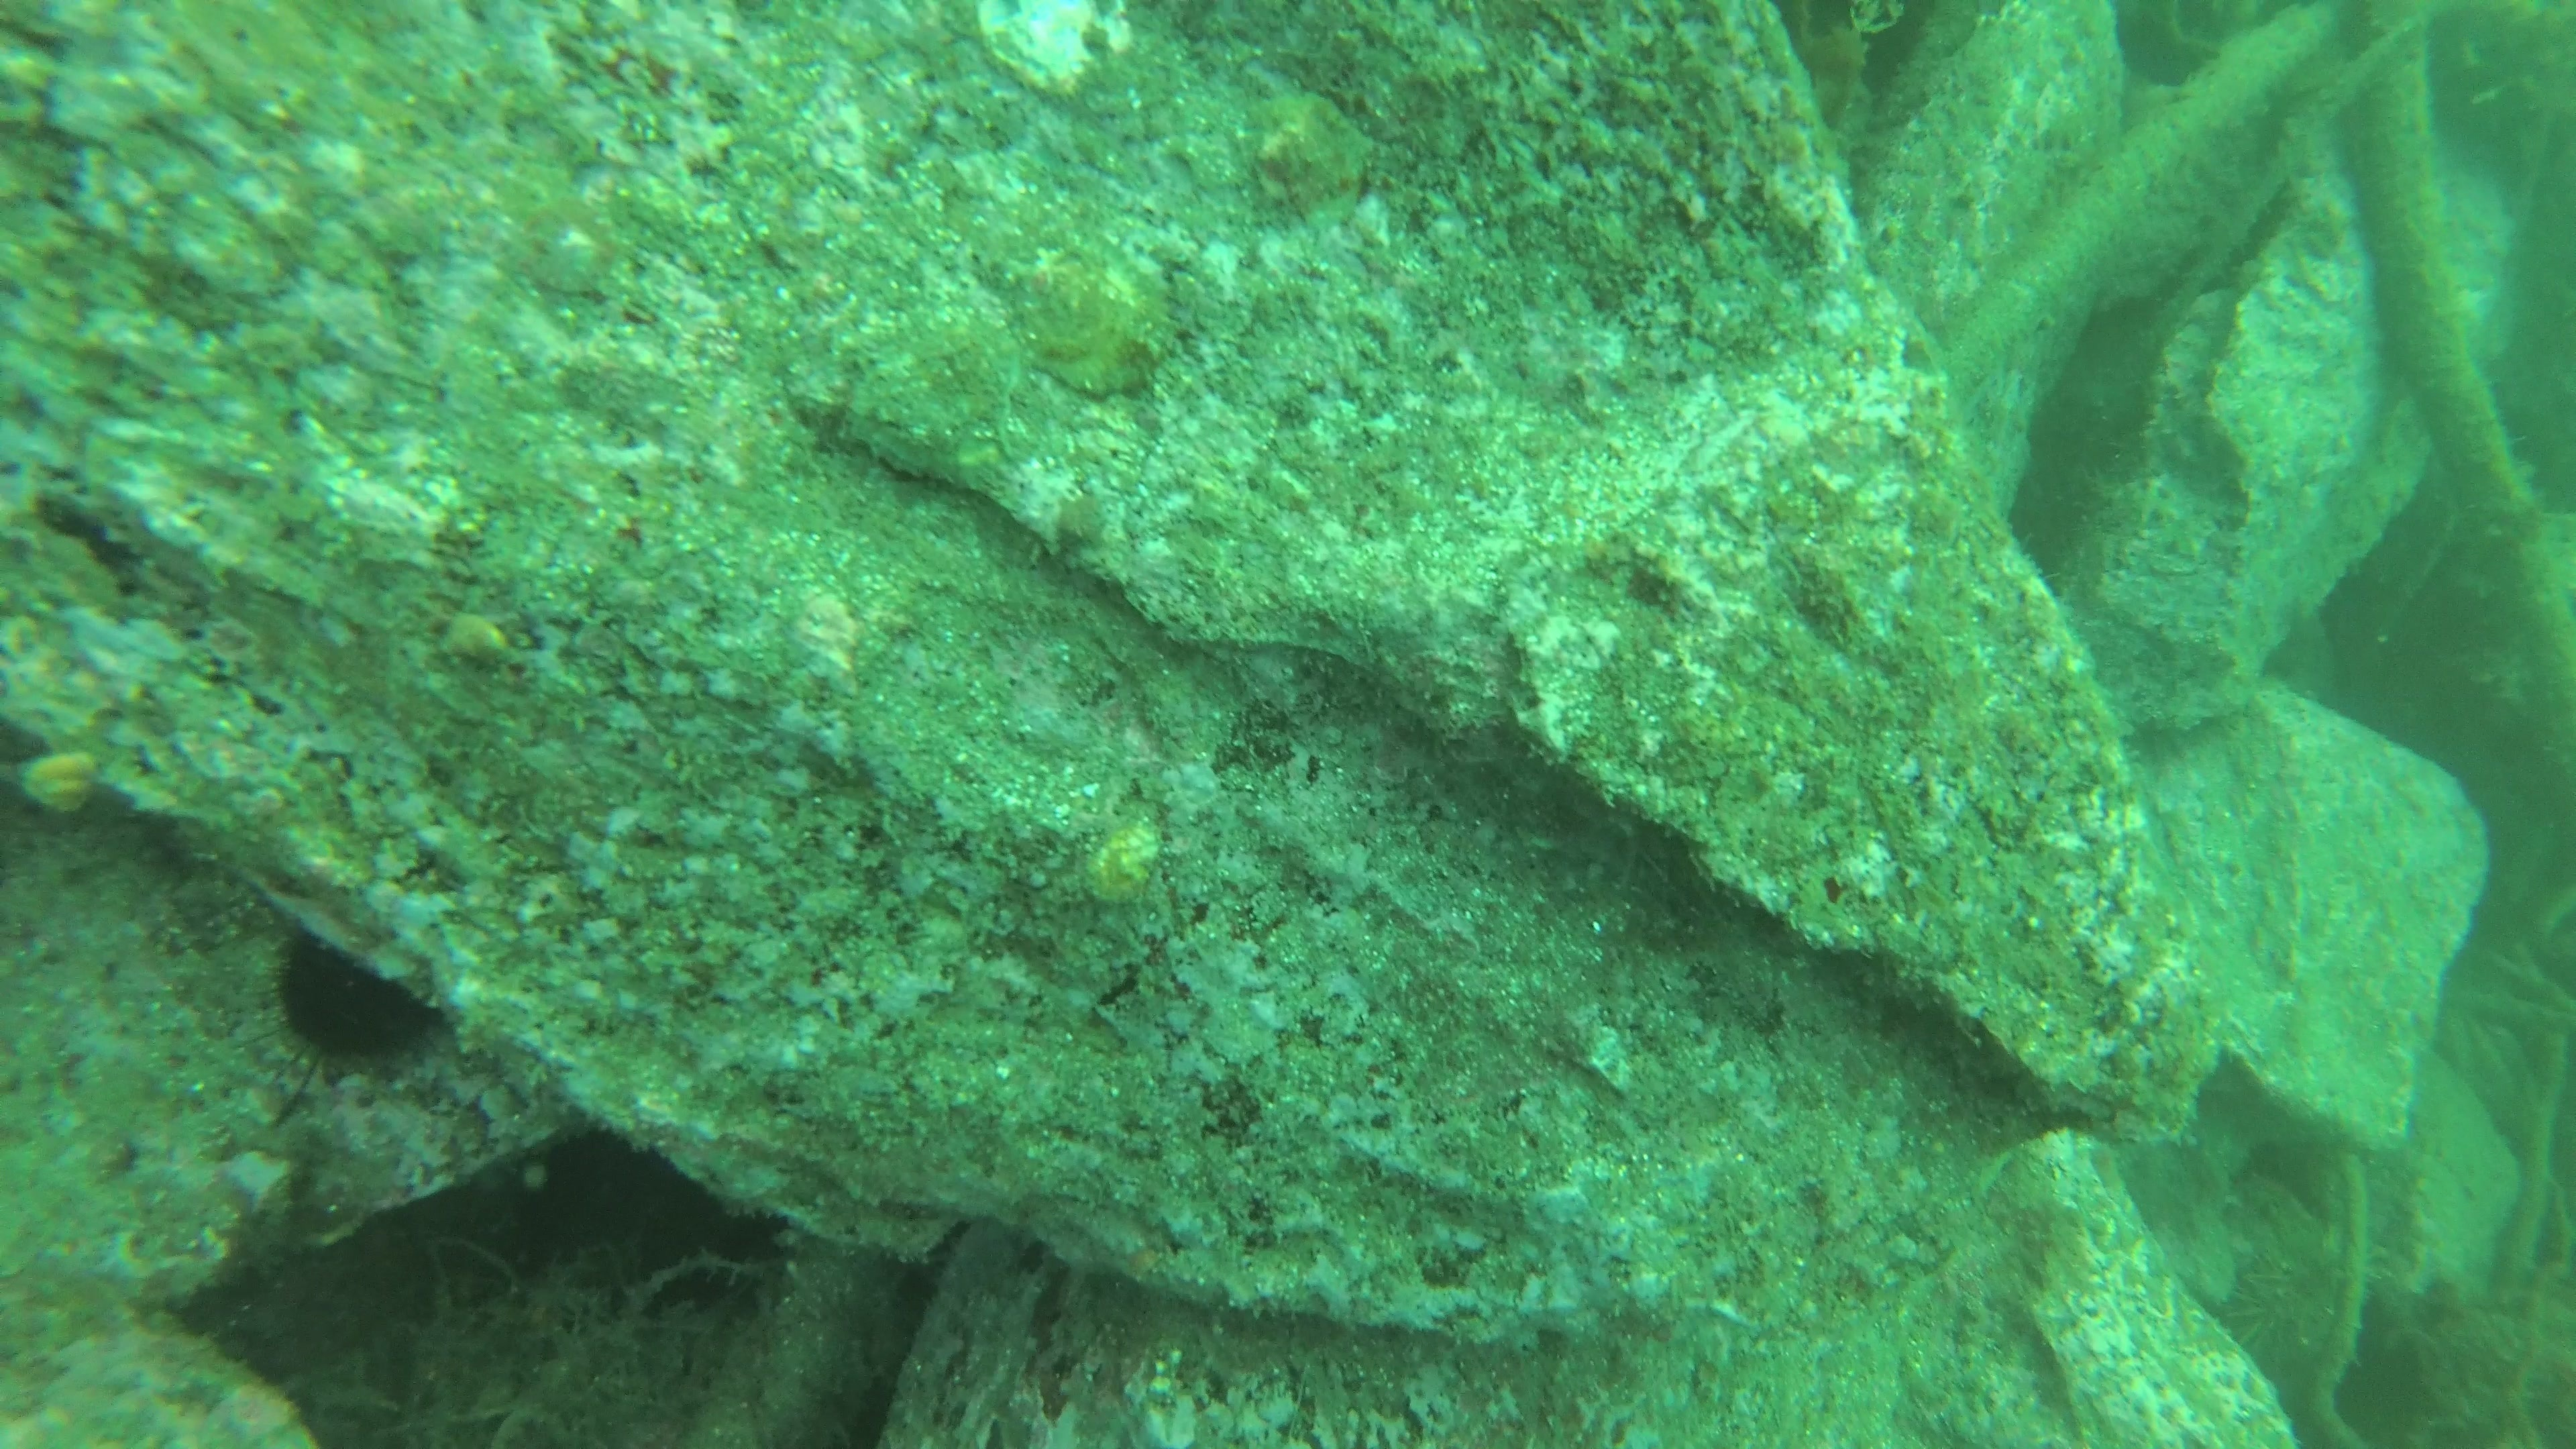echinus: (257, 918, 455, 1076)
